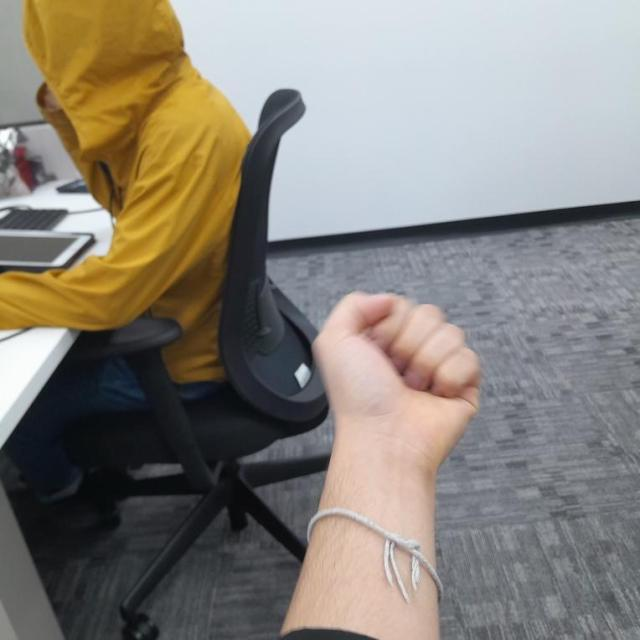fist: (316, 287, 481, 483)
